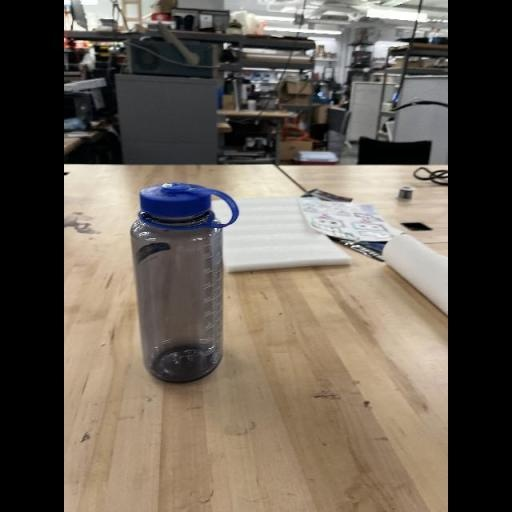bottle: (129, 183, 239, 386)
